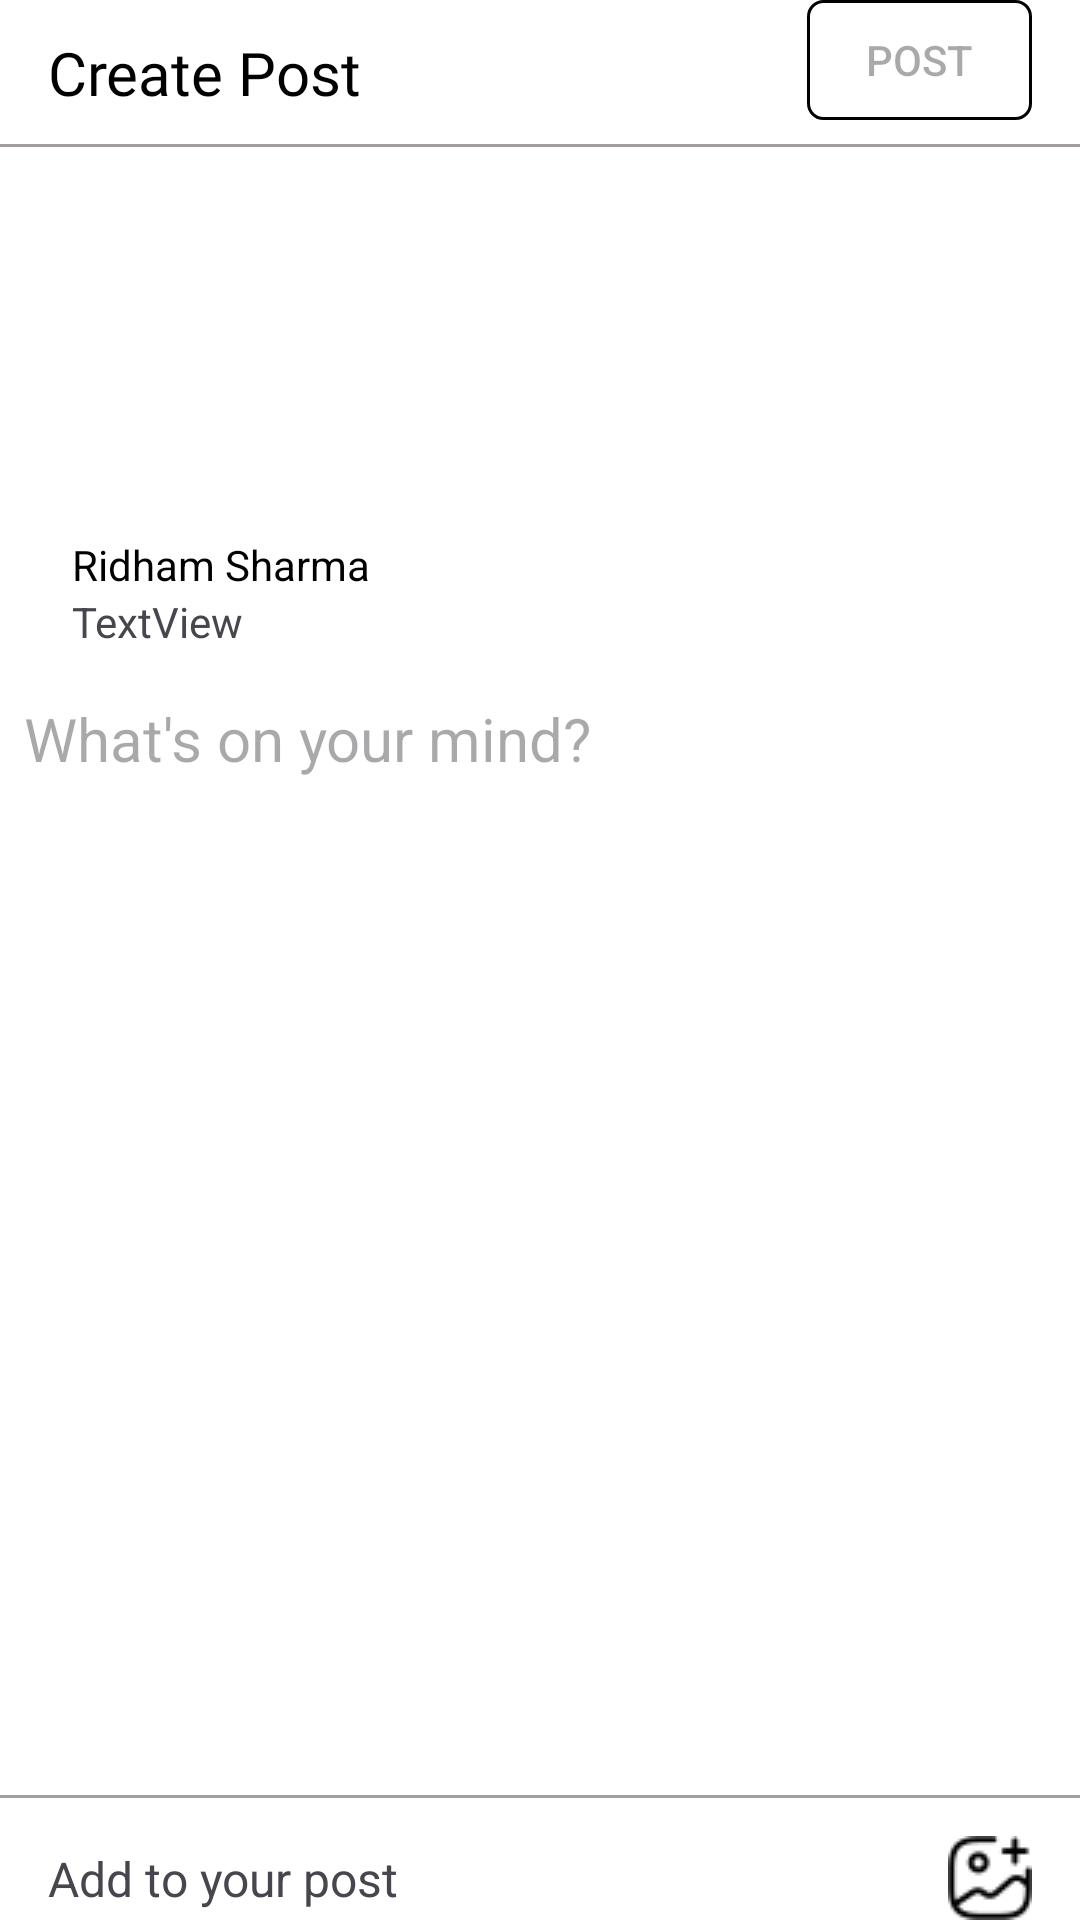

Point at icon controls on the screen. Image size 1080px x 1920px, points as (x,y).
gallery: (990,1878)
